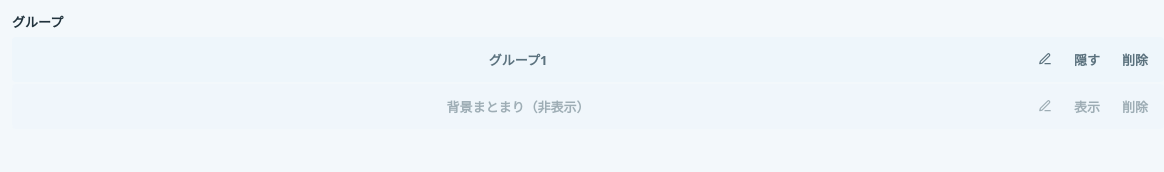
Scenario: GroupList：中身ごと削除（#551） › 削除を押すと確認が出る（すぐには消さない）
Click the button with aria-label "グループ1を中身ごと削除": (1135, 59) [1112,40,1158,79]
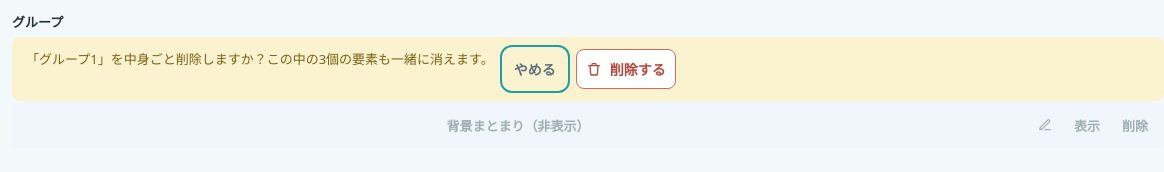
expect the text "「グループ1」を中身ごと削除しますか？この中の3個の要素も一緒に消えます。" is shown: met, box [26,49,494,70]
